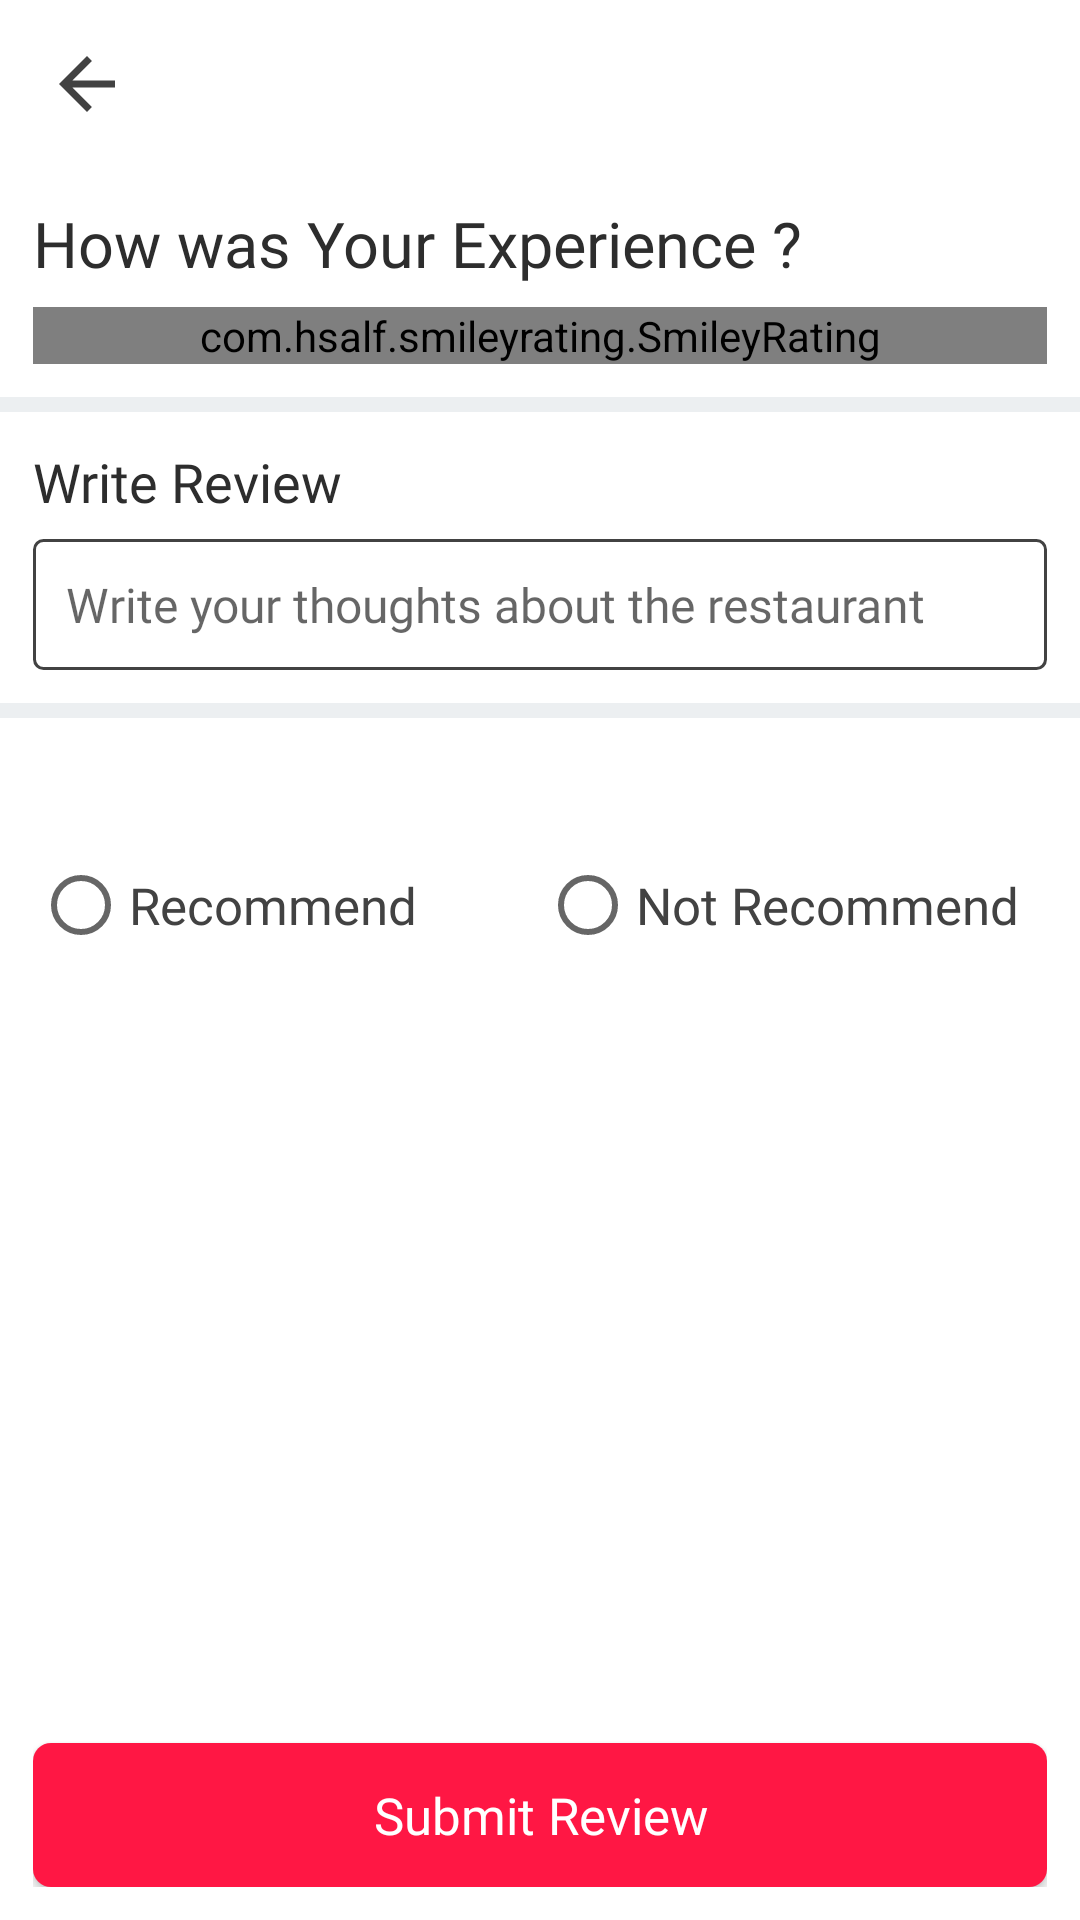

Named icons in this screenshot (1080 × 1920) and their centers, (x,y):
back arrow: (87,84)
